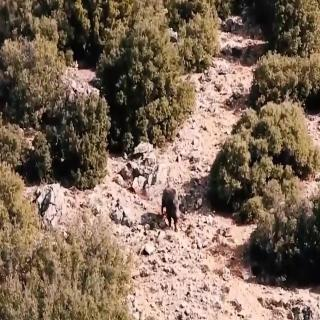Pig: (161, 176, 187, 237)
